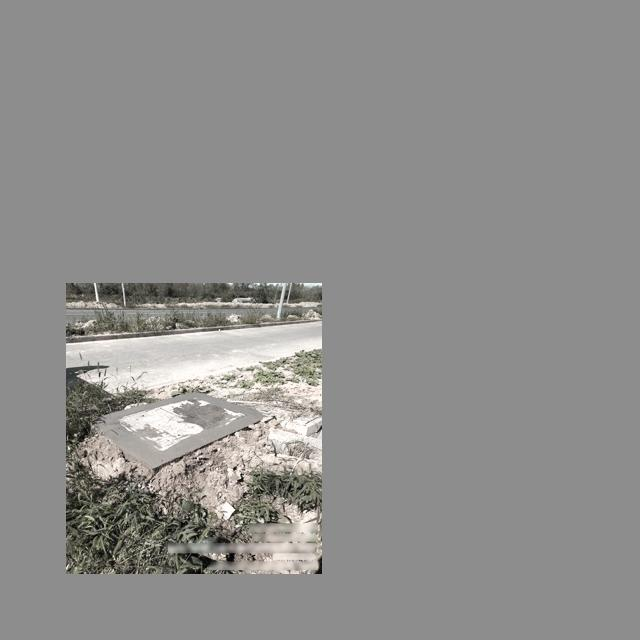good: (116, 396, 250, 453)
